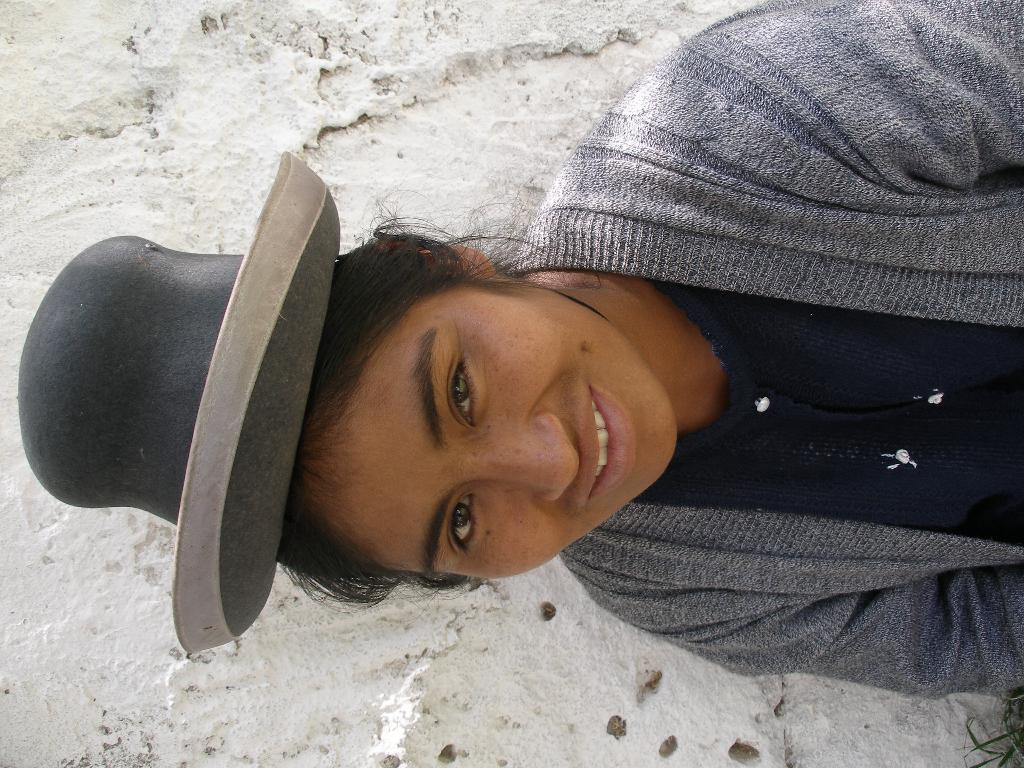Hat: (14, 149, 342, 655)
